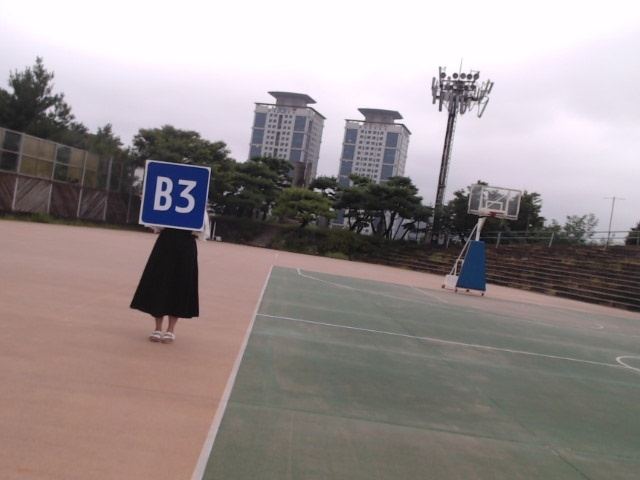delivery_b3: (141, 161, 210, 231)
